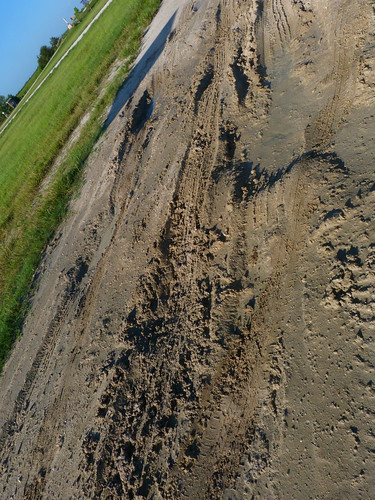dirt: (107, 1, 375, 498)
grass: (1, 2, 144, 313)
